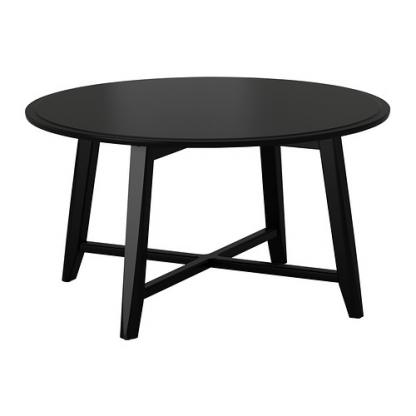Table: (21, 69, 395, 347)
